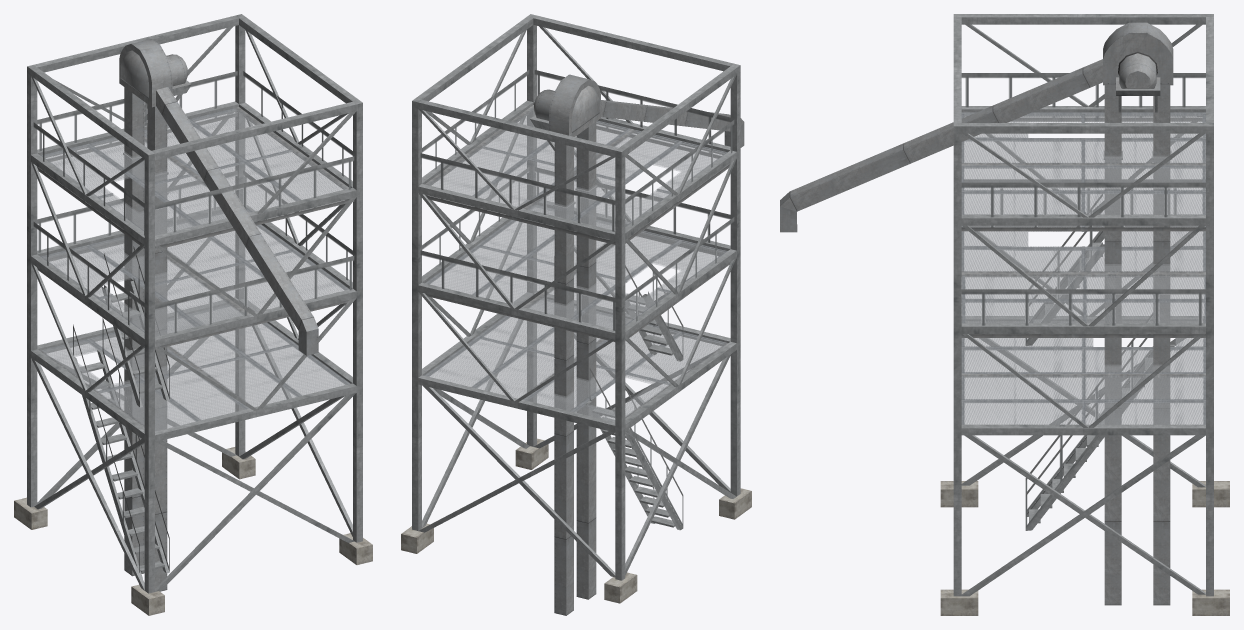
The model's file is plant-metal3.glb.
The picture shows the model from 3 angles, left to right: view 1: azimuth 30°, elevation 25°; view 2: azimuth 150°, elevation 25°; view 3: azimuth 270°, elevation 25°; orthographic projection. The views are drawn at different scales.
Parts seen in each view (by area): view 1: Object8934413; view 2: Object8934413; view 3: Object8934413.
Part boxes in pixels (bbox=[...]): Object8934413: bbox=[14, 14, 372, 615]; Object8934413: bbox=[401, 14, 751, 615]; Object8934413: bbox=[780, 14, 1229, 615].
Bounding box in the file's own units: 7.57 × 17.29 × 12.28.
Materials: 1 (1 with a texture image).
